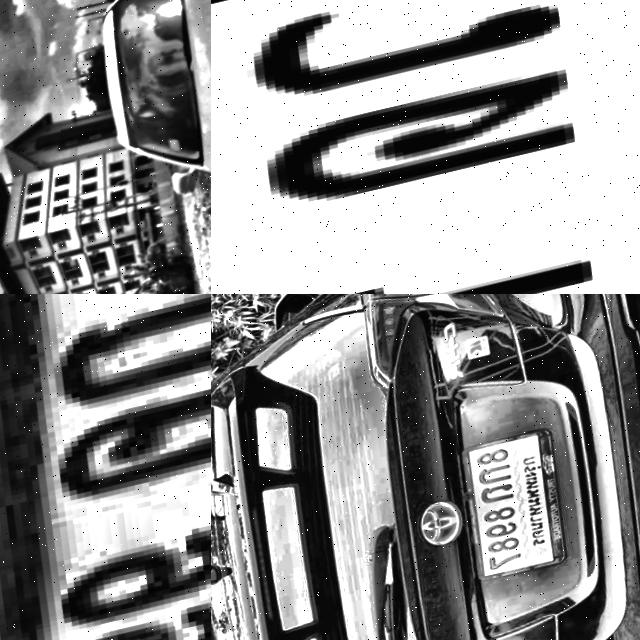license-plate: (211, 0, 640, 294), (0, 294, 211, 640), (450, 427, 590, 587)
